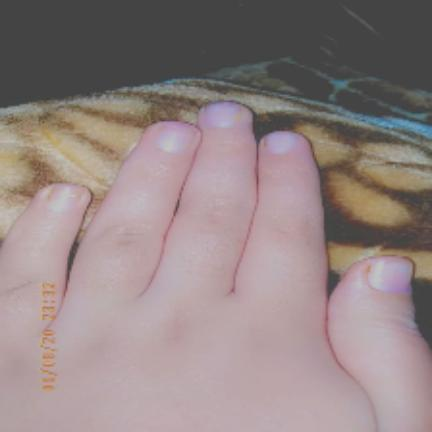Nail: (368, 256, 413, 293), (156, 122, 197, 153), (49, 184, 87, 214), (201, 101, 241, 128), (263, 132, 296, 154)
